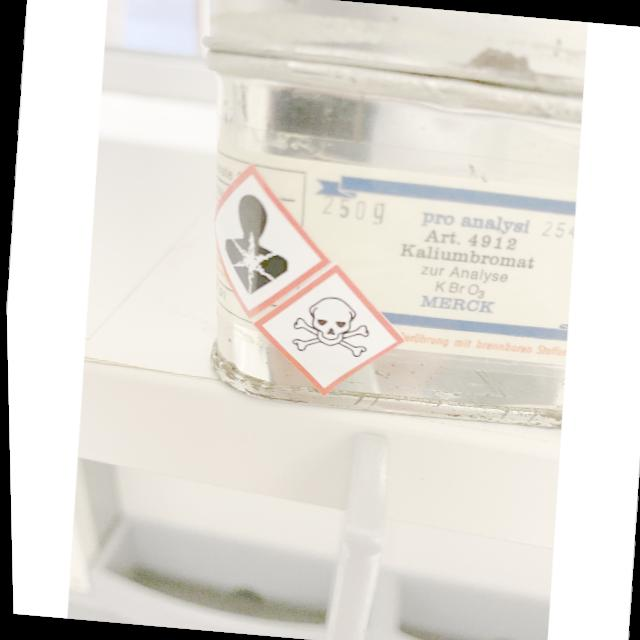acute toxicity: (288, 294, 371, 358)
serious health hazard: (218, 192, 293, 297)
